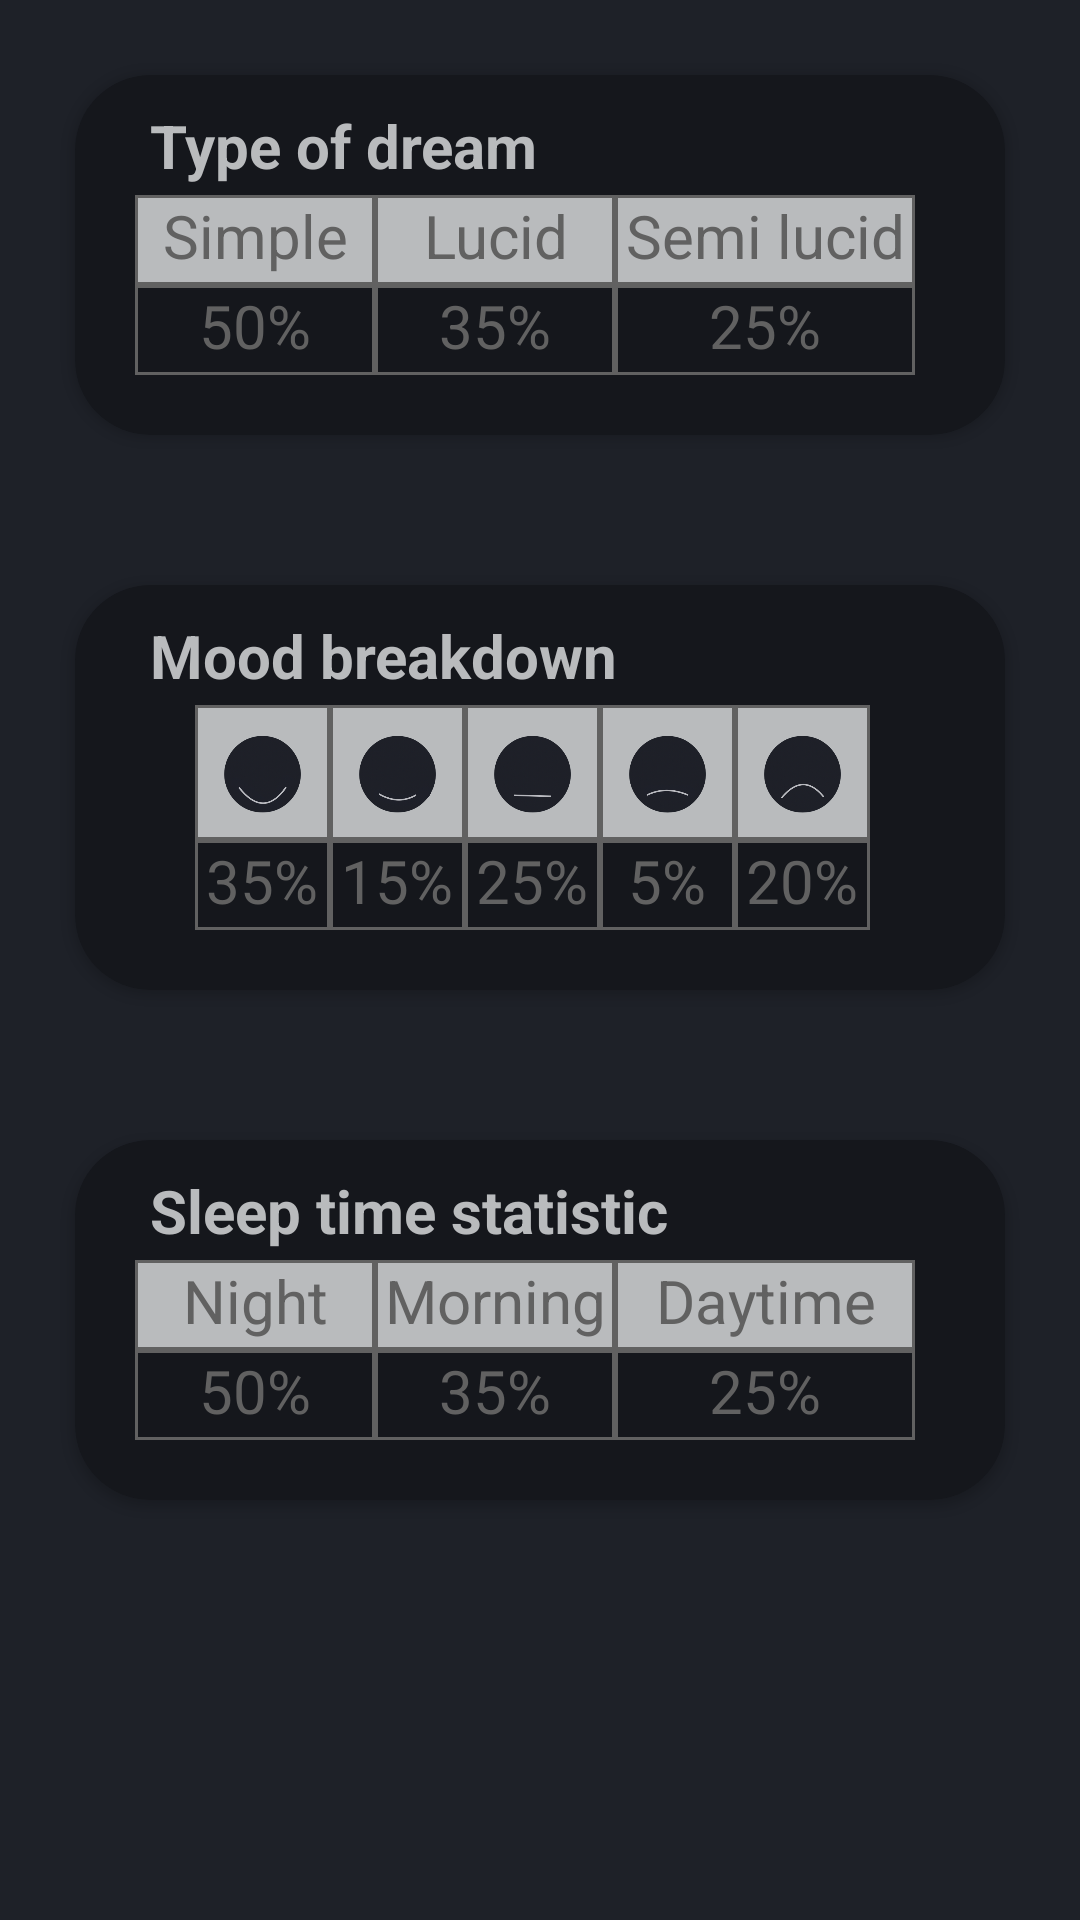

Icon click points for this 1080*1920 phone screenshot, format (x=x, y=y):
amizingdisable: (x=262, y=772)
badendisable: (x=802, y=772)
badnormaldisable: (x=667, y=772)
gooddisable: (x=397, y=772)
normaldisable: (x=532, y=772)
